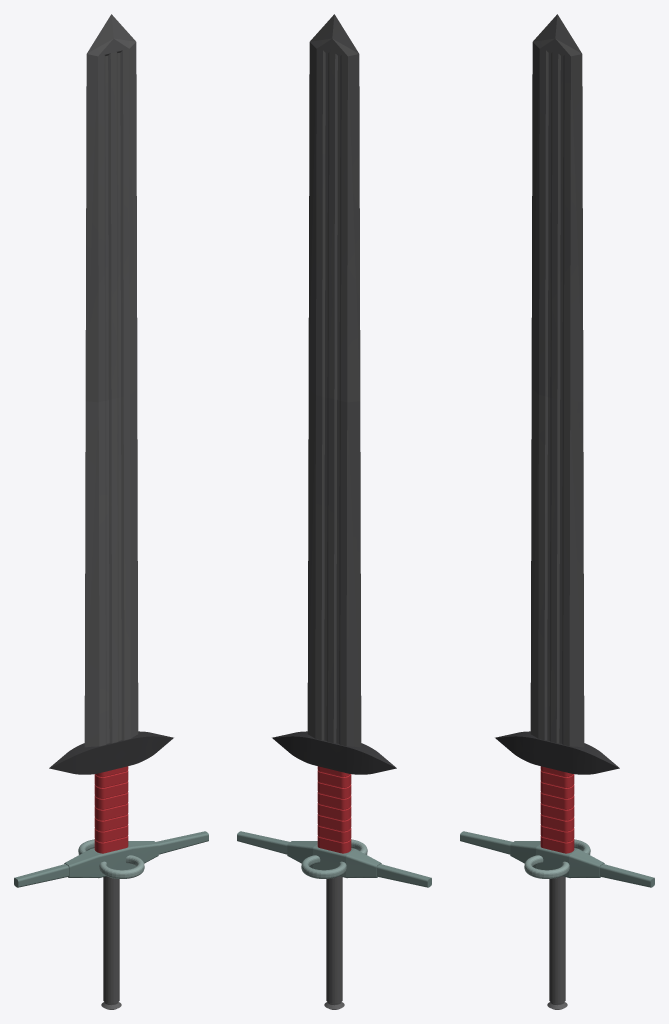
Rendered from Zweihander.glb.
3 renders of one model, left to right at view 1: azimuth 30°, elevation 25°; view 2: azimuth 150°, elevation 25°; view 3: azimuth 330°, elevation 25°, orthographic.
Visible parts, largest first — view 1: Zweihandler; view 2: Zweihandler; view 3: Zweihandler.
Part boxes in pixels (bbox=[...]): Zweihandler: bbox=[14, 14, 208, 1009]; Zweihandler: bbox=[237, 14, 431, 1009]; Zweihandler: bbox=[460, 14, 654, 1009].
Size of the model in its own units: 0.369 by 1.84 by 0.1458.
1 material, 1 textured.
